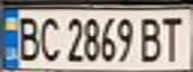2: (63, 14, 84, 63)
6: (100, 14, 121, 63)
8: (81, 14, 103, 63)
9: (115, 14, 139, 63)
B: (12, 12, 42, 62), (136, 14, 166, 63)
C: (36, 12, 63, 63)
T: (157, 12, 190, 63)
